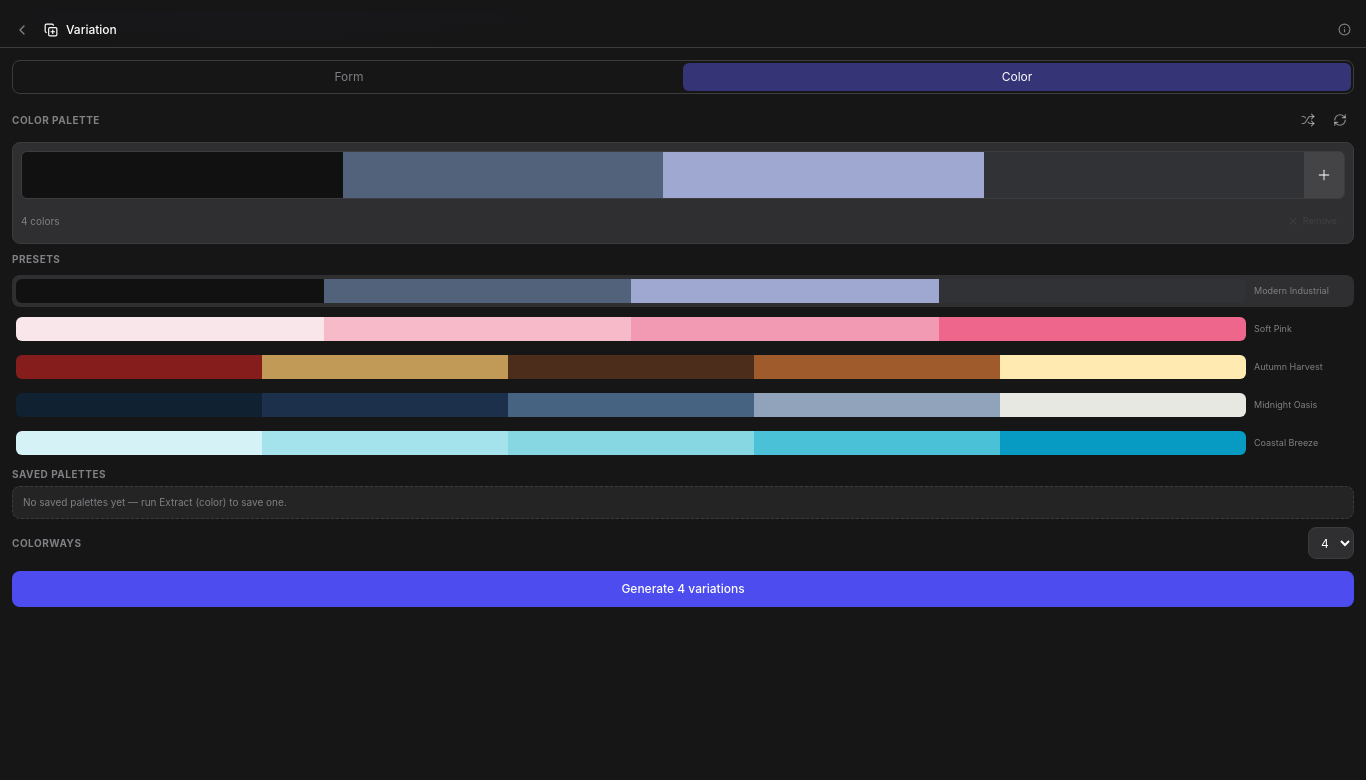
Scenario: GenerationVariationMode — studio variate panel internals (parity) › adds and removes palette swatches in color mode
expect the text "4 colors" is shown: met, box left=21, top=214, right=60, bottom=228
Click the button named "Add palette color" at {"x": 1324, "y": 175}, box left=1304, top=152, right=1344, bottom=198
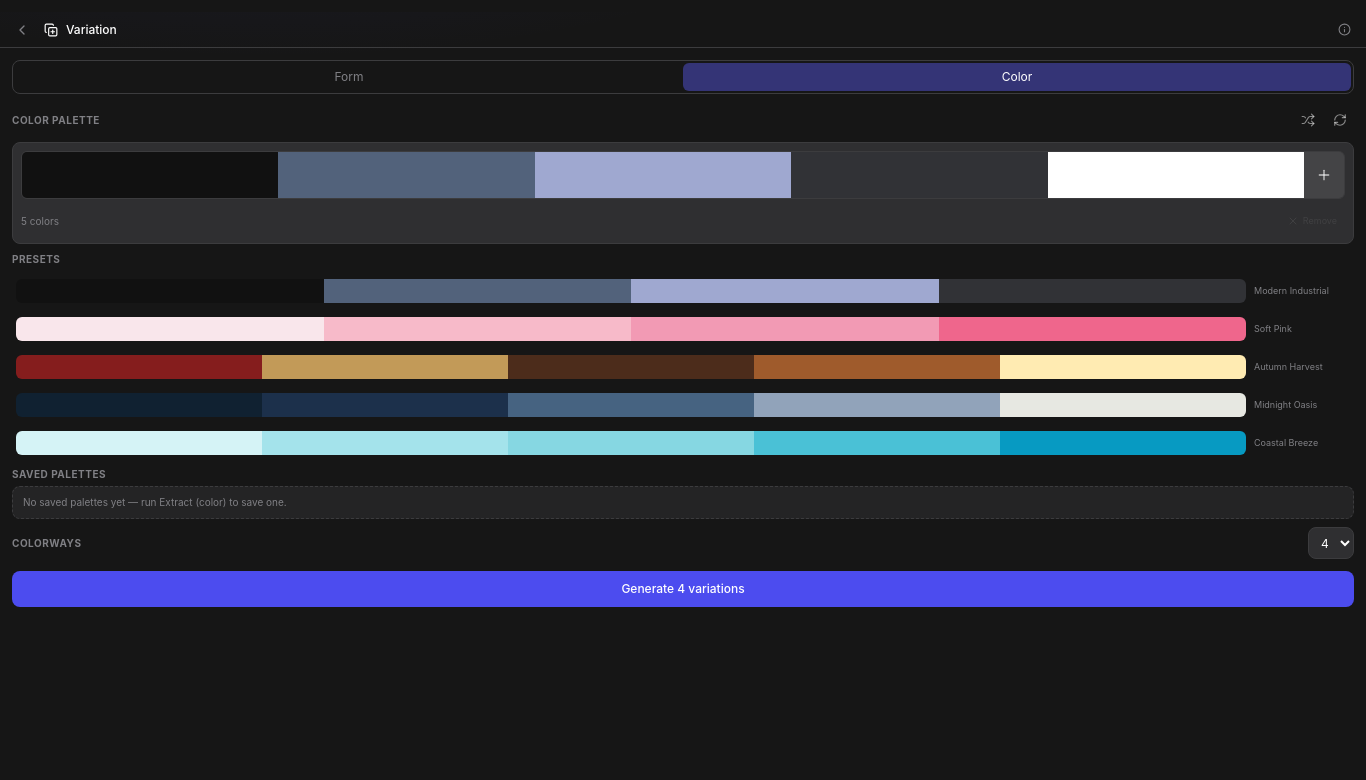
expect the text "5 colors" is shown: met, box left=21, top=214, right=59, bottom=228
Click the button named "Edit palette color 1" at {"x": 150, "y": 175}, box left=22, top=152, right=278, bottom=198
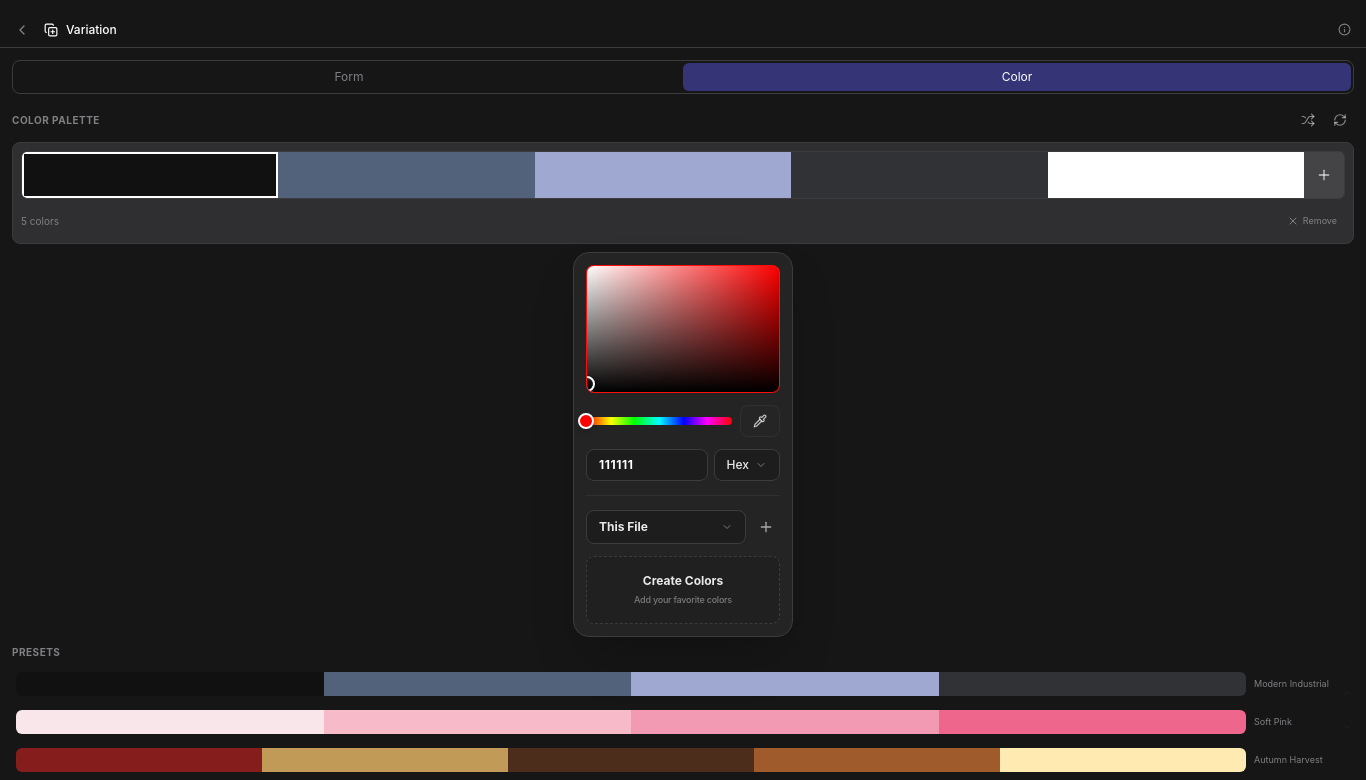
Click the button with aria-label "Remove selected palette color" at {"x": 1312, "y": 221}, box left=1279, top=207, right=1345, bottom=235
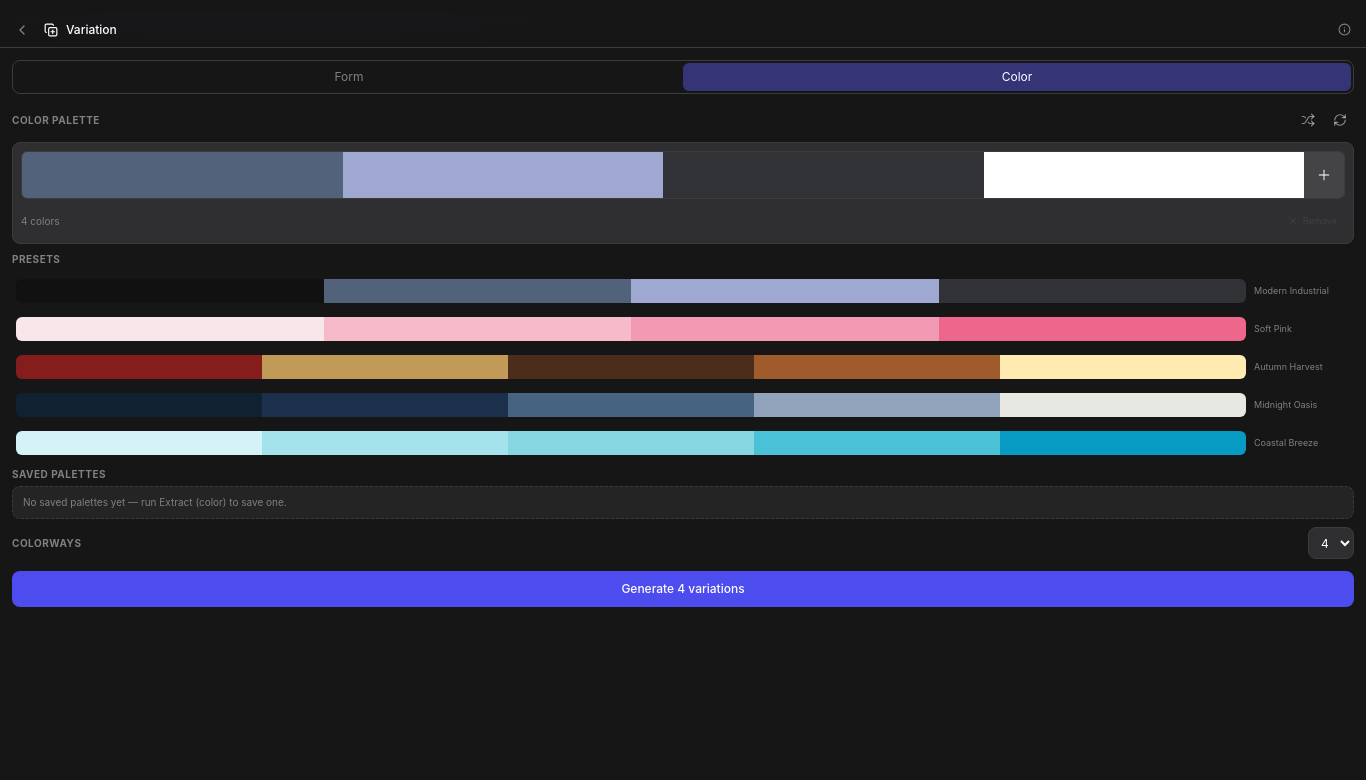
expect the text "4 colors" is shown: met, box left=21, top=214, right=60, bottom=228
